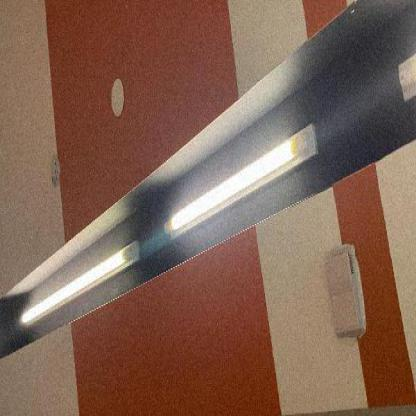light_on: (162, 107, 326, 248), (16, 224, 144, 351)
